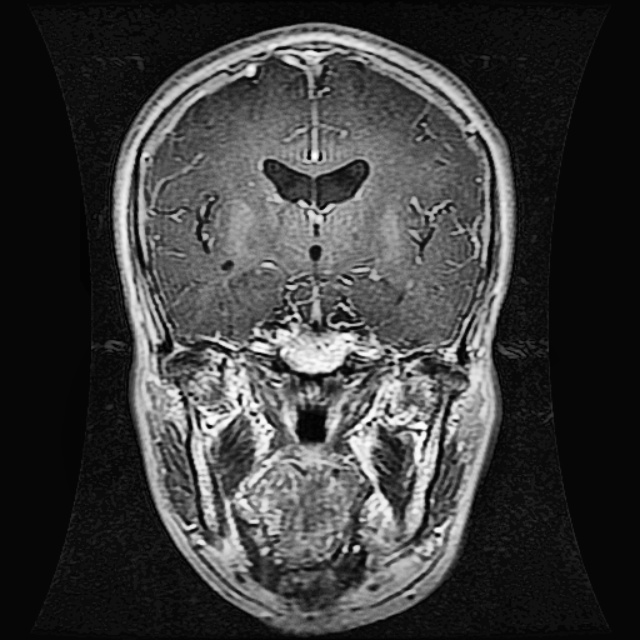Meningioma: (190, 189, 237, 270)
